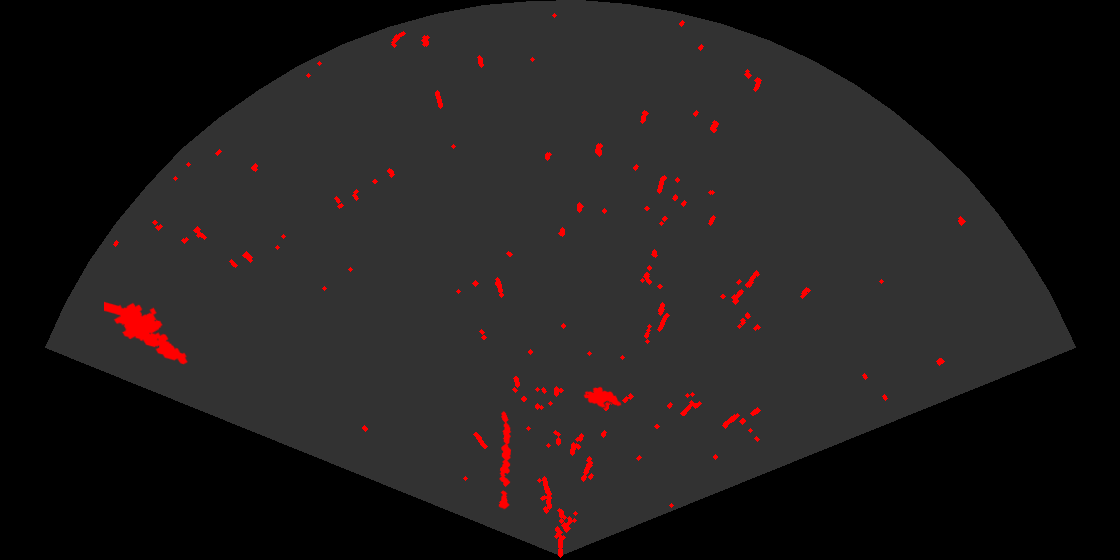AUV: (582, 385, 623, 410)
chain: (497, 409, 513, 510)
frogman: (104, 300, 189, 366)
